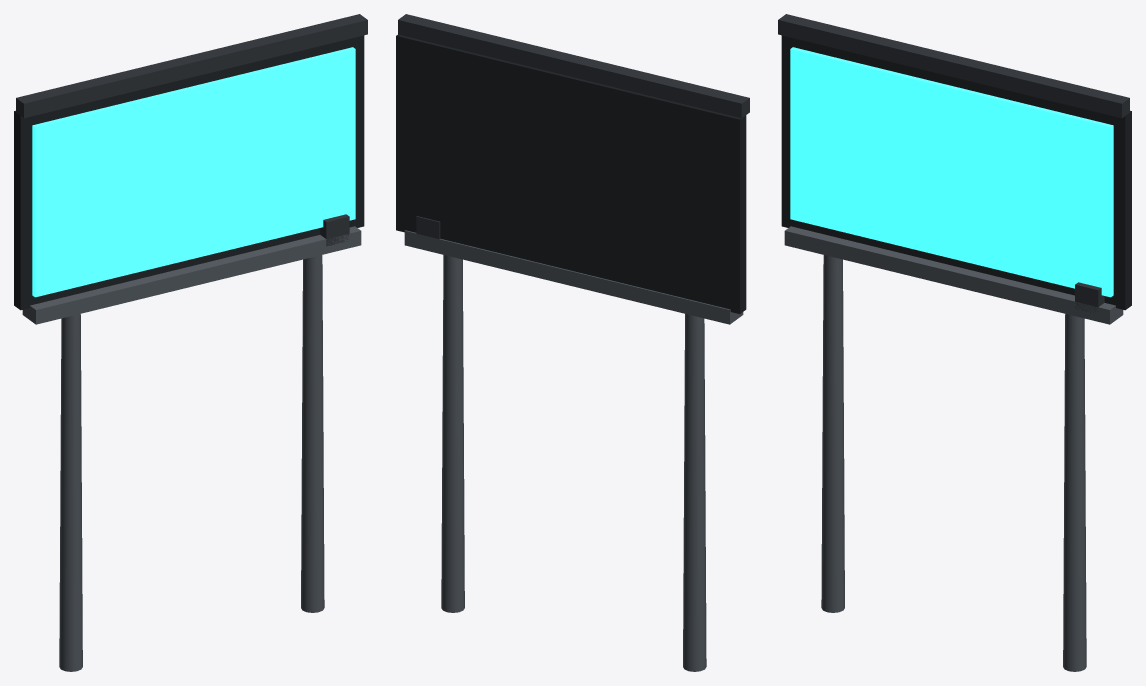
The model's file is billboard.glb.
3 renders of one model, left to right at view 1: azimuth 30°, elevation 25°; view 2: azimuth 150°, elevation 25°; view 3: azimuth 330°, elevation 25°, orthographic.
Parts seen in each view (by area): view 1: billboard; view 2: billboard; view 3: billboard.
Boxes of the visible parts, <box> form: billboard: <box>14,14,367,671</box>; billboard: <box>396,14,749,671</box>; billboard: <box>778,14,1131,671</box>.
Bounding box in the file's own units: 7.4 × 11.9 × 0.5.
